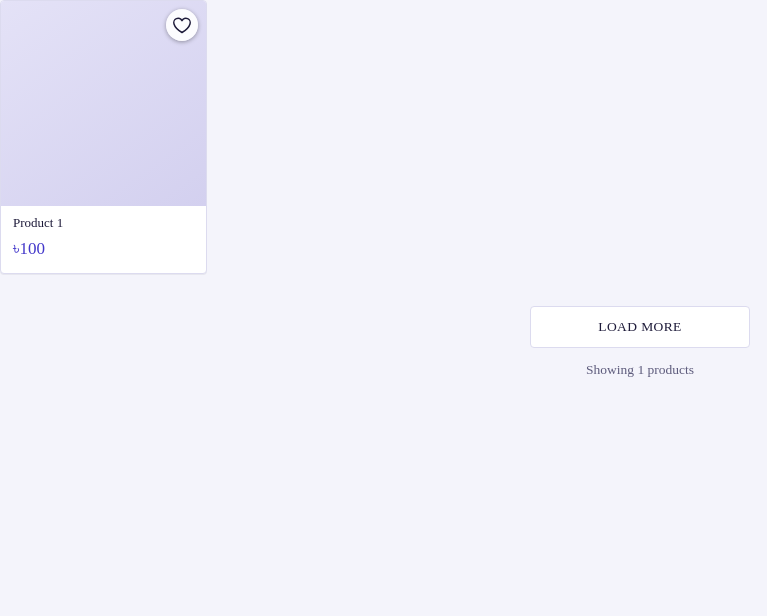
FeedMore › loads the next page with the same seed, drops duplicates, hides the button at the end
The image size is (767, 616).
Click the button "Load more" at (640, 327), box [530,306,750,348]
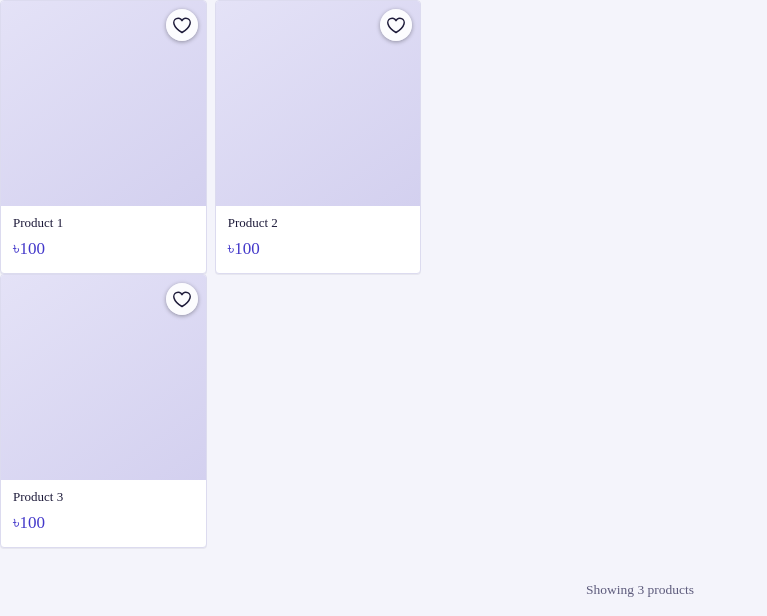
Expected: the text "Showing 3 products" is shown, [586,580,694,600]
Expected: the button "Load more" is gone
